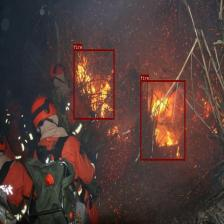fire: (140, 80, 186, 160), (74, 49, 114, 119)
